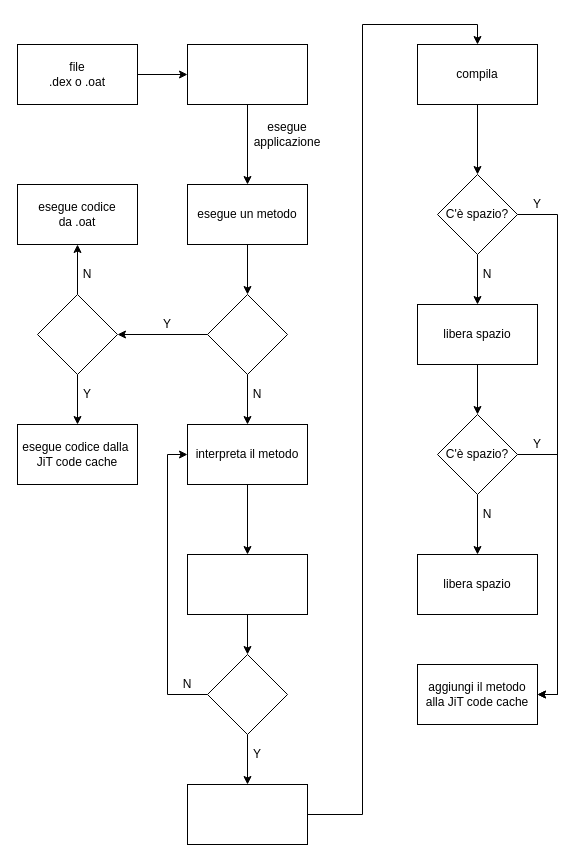
This 583x862 diagram has some shape labels left out. The centre of each missing label's shape, as x and y in pixels:
"ART" goes at [247,74].
"avvia il JiT caching" goes at [247,814].
"crea e salva un profile file" goes at [247,584].
"È compilato ?" goes at [247,334].
"È hot?" goes at [247,694].
"È JiT compilato ?" goes at [77,334].
